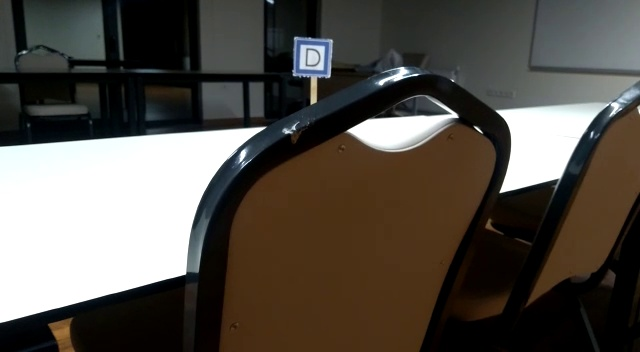durak: (294, 37, 332, 76)
